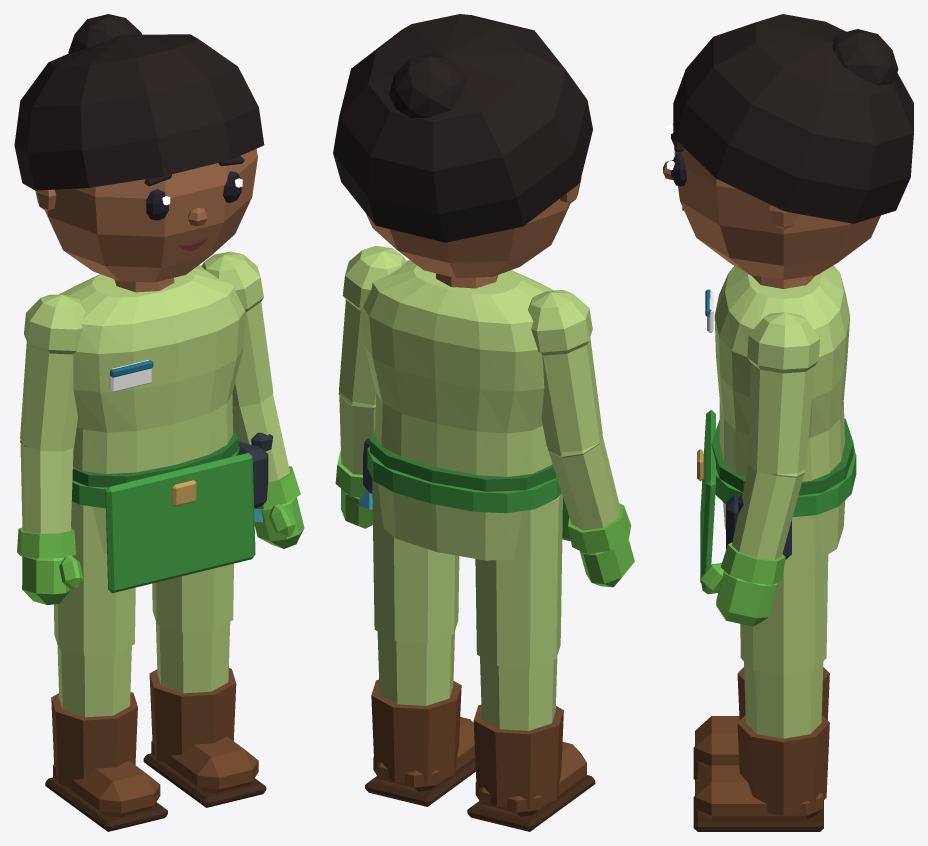
The model's file is rei_ver.glb.
3 renders of one model, left to right at view 1: azimuth 30°, elevation 25°; view 2: azimuth 150°, elevation 25°; view 3: azimuth 270°, elevation 25°, orthographic. The views are drawn at different scales.
Visible parts, largest first — view 1: haare, torso, schürze, kopf, arm_r, bein_r, schuh_l, schuh_r, bein_l, arm_l, hand_r, gesicht (+4 smaller); view 2: haare, torso, bein_r, arm_r, bein_l, schuh_r, schuh_l, arm_l, kopf, becken, gürtel, schürze (+4 smaller); view 3: haare, arm_l, torso, bein_l, kopf, schuh_l, schürze, schuh_r, hand_l, gürtel, becken, accessoire_sprayholster (+2 smaller).
Boxes of the visible parts, left/top/right/bottom form: haare: left=14, top=14, right=264, bottom=190; torso: left=59, top=265, right=245, bottom=473; schürze: left=72, top=429, right=255, bottom=593; kopf: left=35, top=149, right=257, bottom=282; arm_r: left=17, top=294, right=85, bottom=558; bein_r: left=54, top=501, right=135, bottom=717; schuh_l: left=143, top=668, right=266, bottom=807; schuh_r: left=45, top=692, right=167, bottom=831; bein_l: left=152, top=563, right=233, bottom=693; arm_l: left=201, top=251, right=300, bottom=508; hand_r: left=22, top=555, right=83, bottom=604; gesicht: left=144, top=156, right=244, bottom=251; haare: left=333, top=14, right=592, bottom=242; torso: left=362, top=260, right=553, bottom=476; bein_r: left=475, top=493, right=562, bottom=730; arm_r: left=528, top=290, right=631, bottom=554; bein_l: left=372, top=479, right=459, bottom=705; schuh_r: left=467, top=704, right=595, bottom=831; schuh_l: left=365, top=679, right=475, bottom=806; arm_l: left=335, top=245, right=406, bottom=497; kopf: left=366, top=177, right=581, bottom=278; becken: left=378, top=483, right=522, bottom=560; gürtel: left=367, top=446, right=561, bottom=513; schürze: left=369, top=430, right=570, bottom=541; haare: left=673, top=14, right=913, bottom=223; arm_l: left=721, top=312, right=819, bottom=584; torso: left=714, top=265, right=849, bottom=481; bein_l: left=740, top=514, right=828, bottom=738; kopf: left=674, top=148, right=880, bottom=279; schuh_l: left=693, top=715, right=829, bottom=831; schürze: left=700, top=410, right=853, bottom=582; schuh_r: left=693, top=667, right=829, bottom=779; hand_l: left=701, top=563, right=776, bottom=626; gürtel: left=697, top=436, right=856, bottom=516; becken: left=723, top=500, right=845, bottom=558; accessoire_sprayholster: left=726, top=494, right=791, bottom=584.
Bounding box in the file's own units: 0.00962 × 0.0244 × 0.0073.
